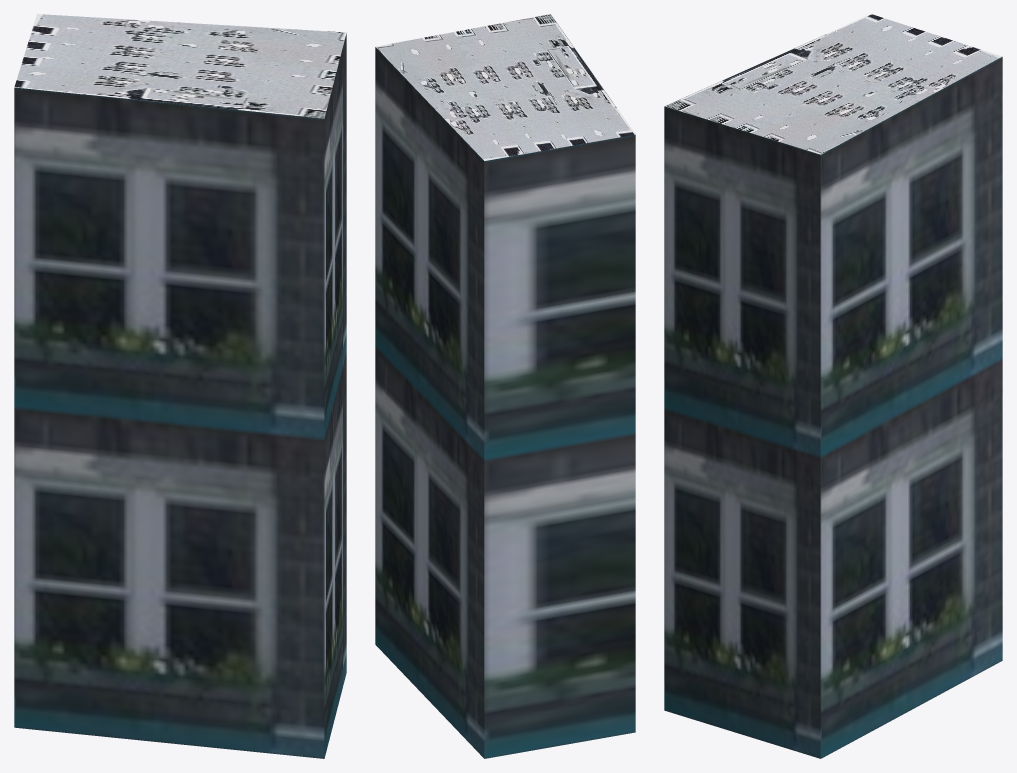
File: ResTex__1999.fbx
The picture shows the model from 3 angles, left to right: view 1: azimuth 30°, elevation 25°; view 2: azimuth 150°, elevation 25°; view 3: azimuth 270°, elevation 25°; orthographic projection. The views are drawn at different scales.
Parts seen in each view (by area): view 1: CityEngineMaterial_11_m, CityEngineMaterial_m; view 2: CityEngineMaterial_11_m, CityEngineMaterial_m; view 3: CityEngineMaterial_11_m, CityEngineMaterial_m.
Boxes of the visible parts, x1,y1,x2,y2 form: CityEngineMaterial_11_m: (14,33,346,758); CityEngineMaterial_m: (14,14,346,118); CityEngineMaterial_11_m: (375,47,635,758); CityEngineMaterial_m: (375,14,635,160); CityEngineMaterial_11_m: (664,56,1002,758); CityEngineMaterial_m: (665,14,1001,154).
Bounding box in the file's own units: 3 × 6 × 3.04.
Materials: 2 (2 with a texture image).
